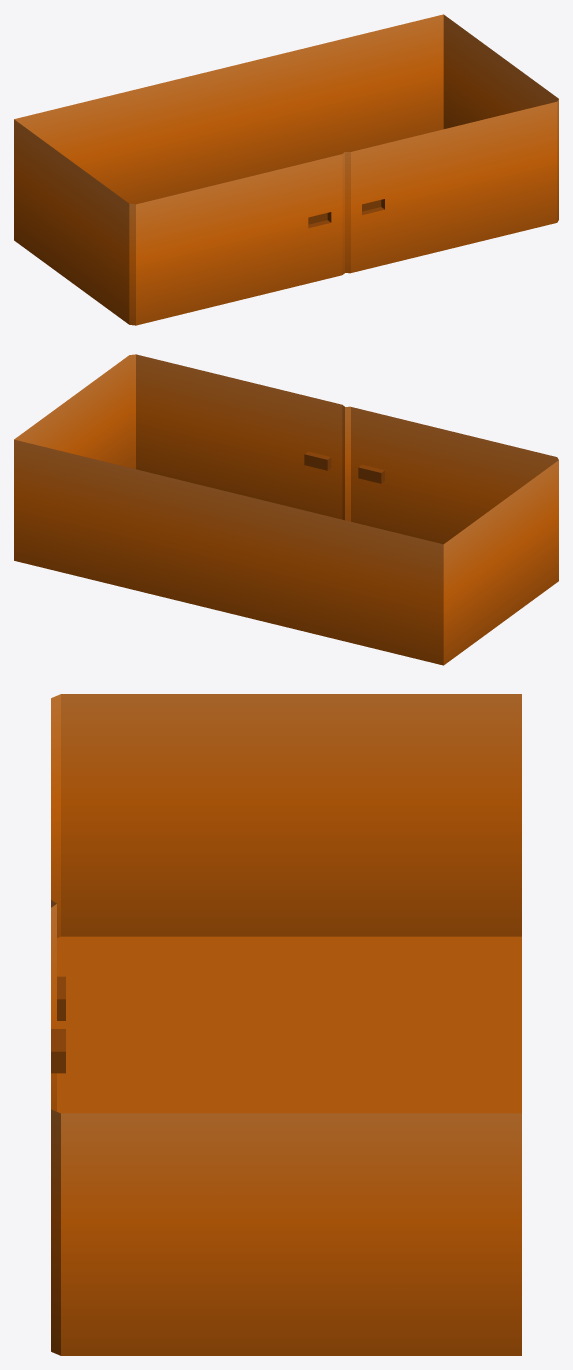
The model's file is Counter_01_v06_D_C03.fbx.
3 renders of one model, top to bottom at view 1: azimuth 30°, elevation 25°; view 2: azimuth 150°, elevation 25°; view 3: azimuth 270°, elevation 25°, orthographic. The views are drawn at different scales.
Parts seen in each view (by area): view 1: Counter_01_v06_D_C03; view 2: Counter_01_v06_D_C03; view 3: Counter_01_v06_D_C03.
Part boxes in pixels (box(x1,y1,x2,y2)): Counter_01_v06_D_C03: box(14, 14, 558, 325); Counter_01_v06_D_C03: box(14, 354, 558, 665); Counter_01_v06_D_C03: box(51, 694, 521, 1355).
Bounding box in the file's own units: 200 × 53.91 × 94.97.
